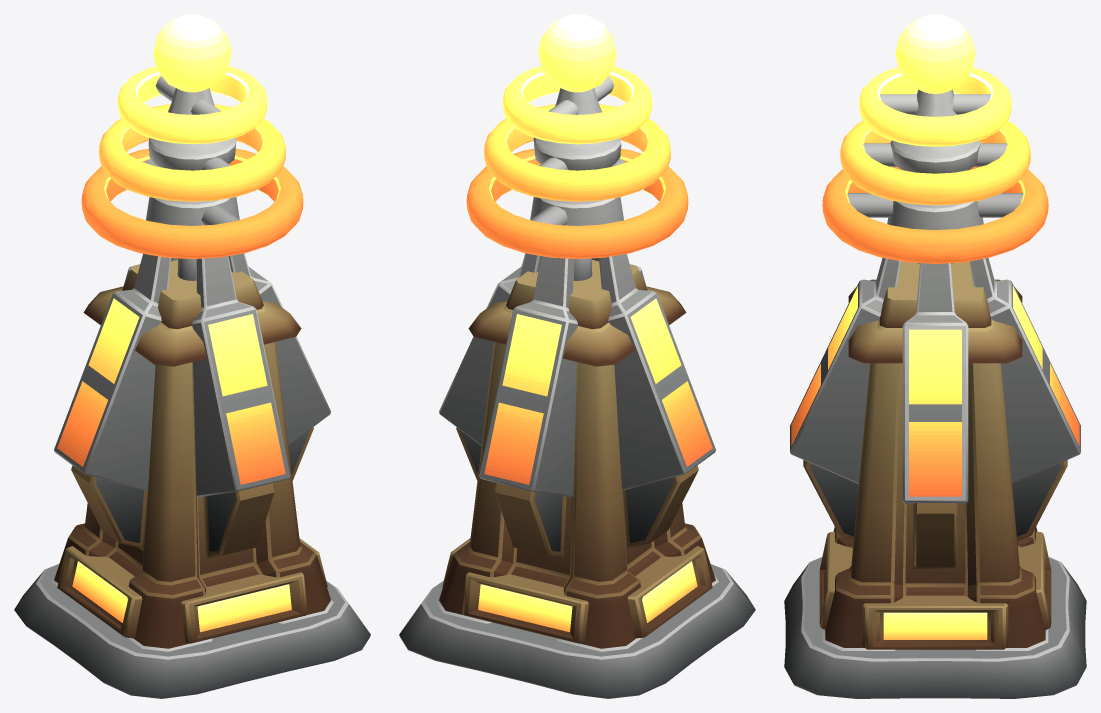
The model's file is Big_TeslaBuilding.fbx.
3 views of the same model, side by side, from view 1: azimuth 30°, elevation 25°; view 2: azimuth 150°, elevation 25°; view 3: azimuth 270°, elevation 25° (orthographic).
Parts seen in each view (by area): view 1: Big_TeslaBuilding; view 2: Big_TeslaBuilding; view 3: Big_TeslaBuilding.
Boxes of the visible parts, box(x1,y1,x2,y2) form: Big_TeslaBuilding: box(14, 14, 370, 698); Big_TeslaBuilding: box(399, 14, 755, 698); Big_TeslaBuilding: box(784, 14, 1086, 698).
Size of the model in its own units: 349 by 787 by 349.
